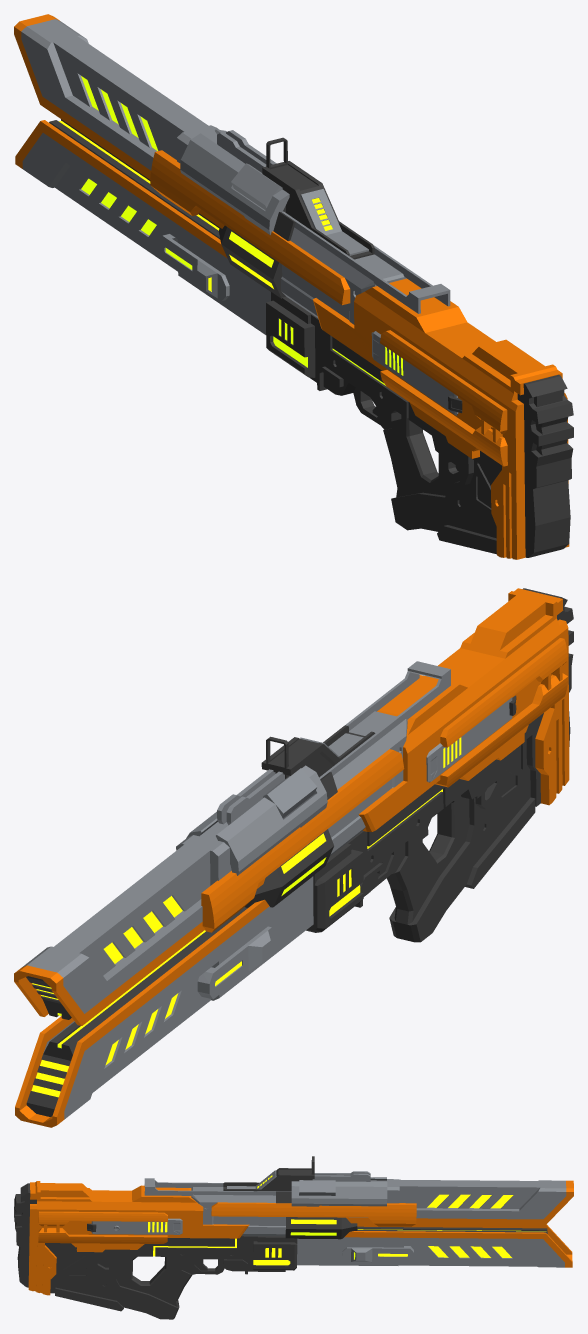
File: plasmarifle.glb
3 views of the same model, one above another, from view 1: azimuth 30°, elevation 25°; view 2: azimuth 150°, elevation 25°; view 3: azimuth 270°, elevation 25° (orthographic). The views are drawn at different scales.
Visible parts, largest first — view 1: plasmarifle; view 2: plasmarifle; view 3: plasmarifle.
Boxes of the visible parts, x1,y1,x2,y2 form: plasmarifle: (14,14,573,559); plasmarifle: (14,588,573,1127); plasmarifle: (14,1156,573,1319).
Bounding box in the file's own units: 0.0681 × 0.2547 × 0.8251.
1 material, 1 textured.
